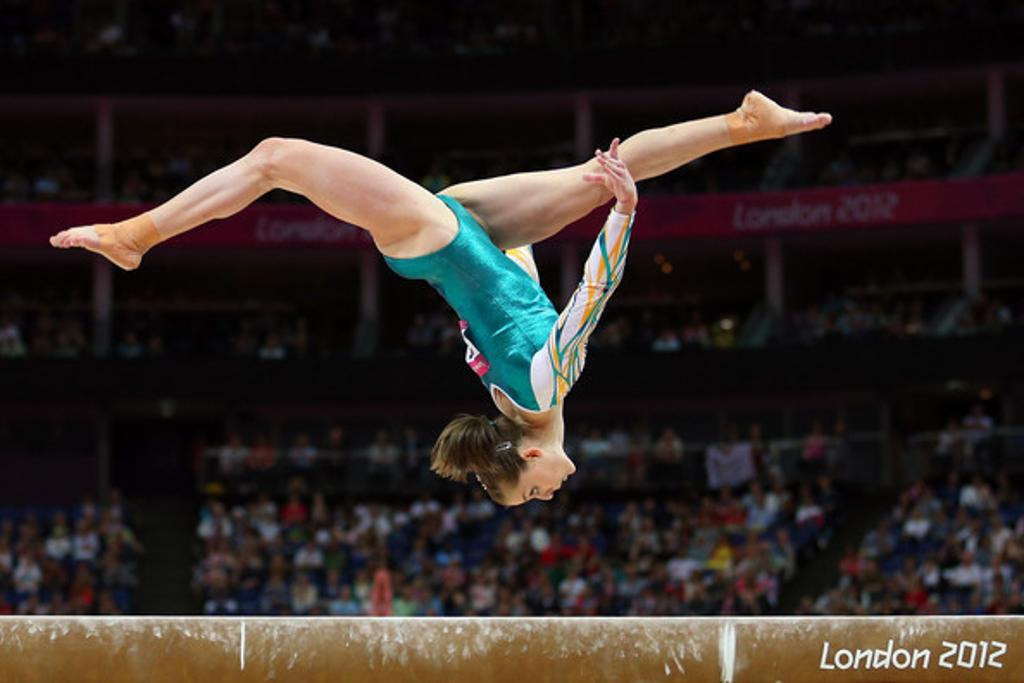face: (487, 461, 577, 513)
